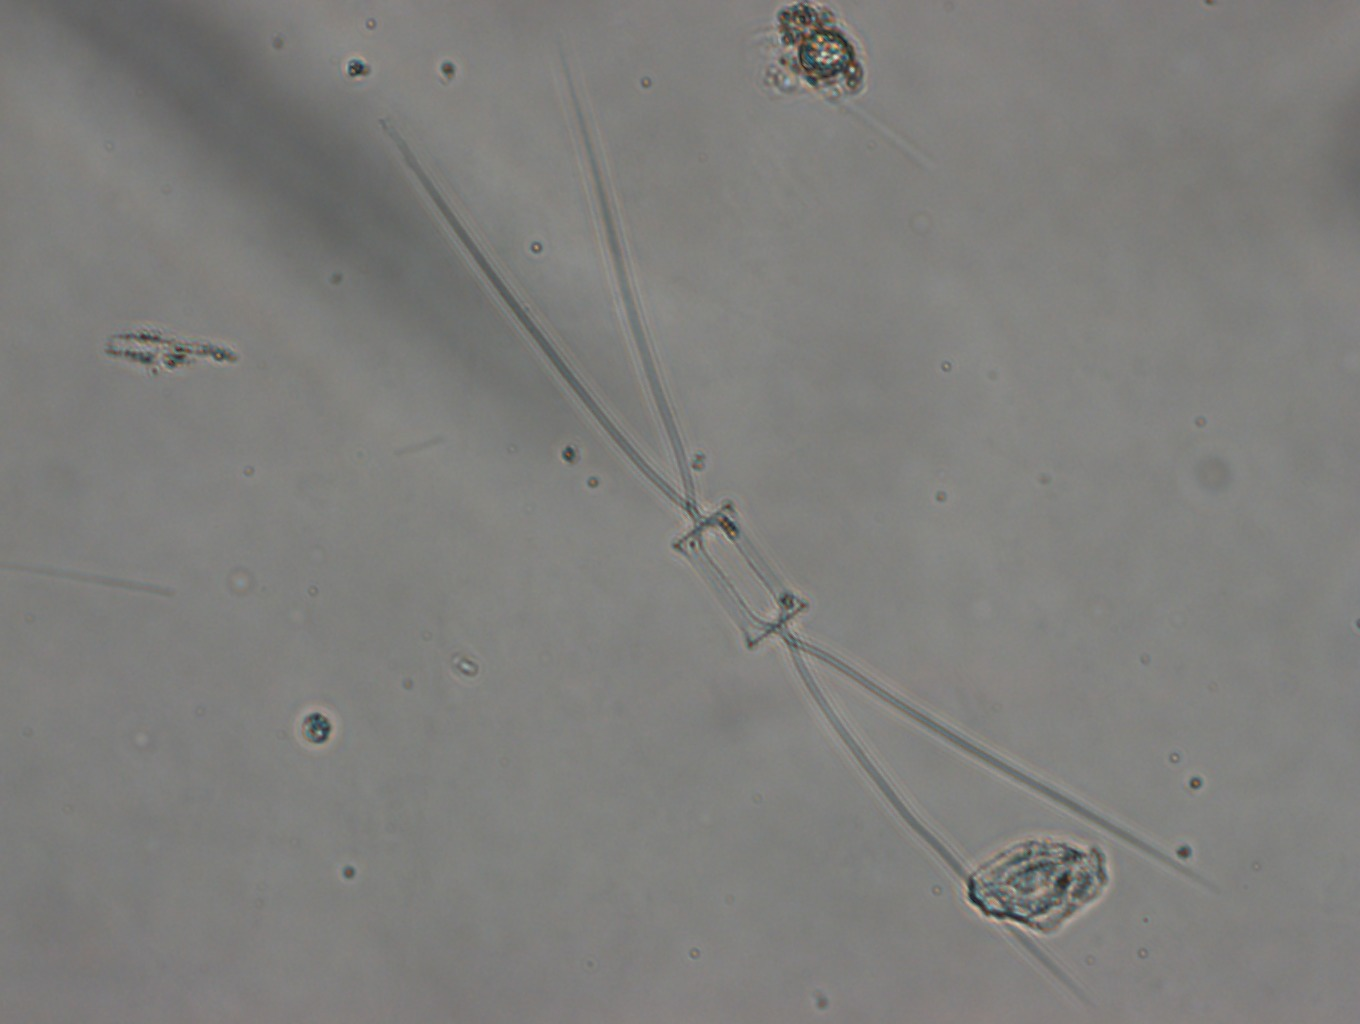chaetoceros: (373, 38, 1205, 993)
